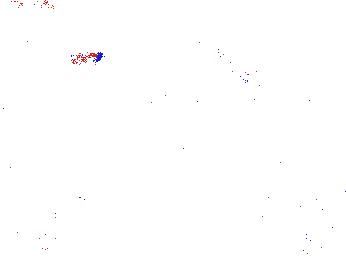glassfish: (162, 134, 261, 188)
red belly glassfish: (40, 47, 103, 67)
redtail glassfish: (213, 46, 254, 92)
